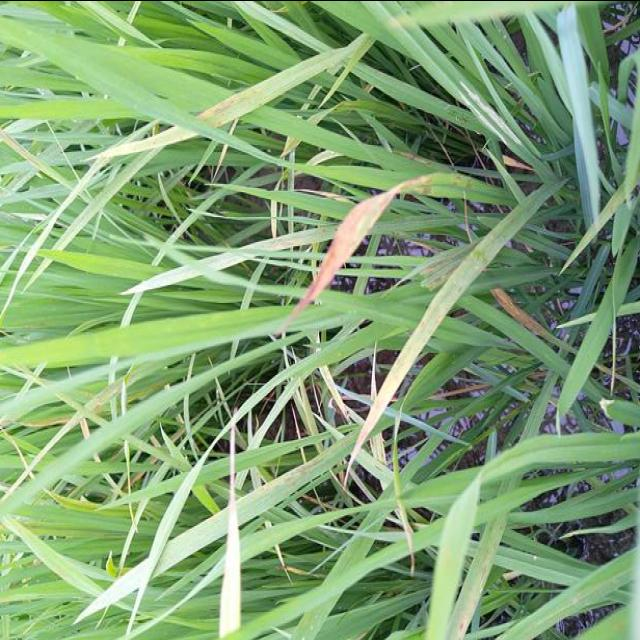Leaf Blight: (358, 198, 540, 453), (297, 173, 433, 313), (197, 30, 369, 126), (6, 410, 78, 496), (124, 254, 250, 294), (0, 124, 66, 183), (393, 413, 415, 576), (96, 125, 198, 157), (222, 428, 237, 622), (248, 226, 338, 248), (321, 366, 354, 423), (44, 488, 111, 510), (86, 378, 124, 413), (0, 429, 27, 470), (422, 259, 458, 287), (370, 432, 385, 463), (24, 417, 69, 427), (372, 339, 377, 403), (80, 417, 90, 439), (29, 470, 35, 479)
Leaf Streak: (446, 539, 497, 640), (491, 288, 546, 339)
